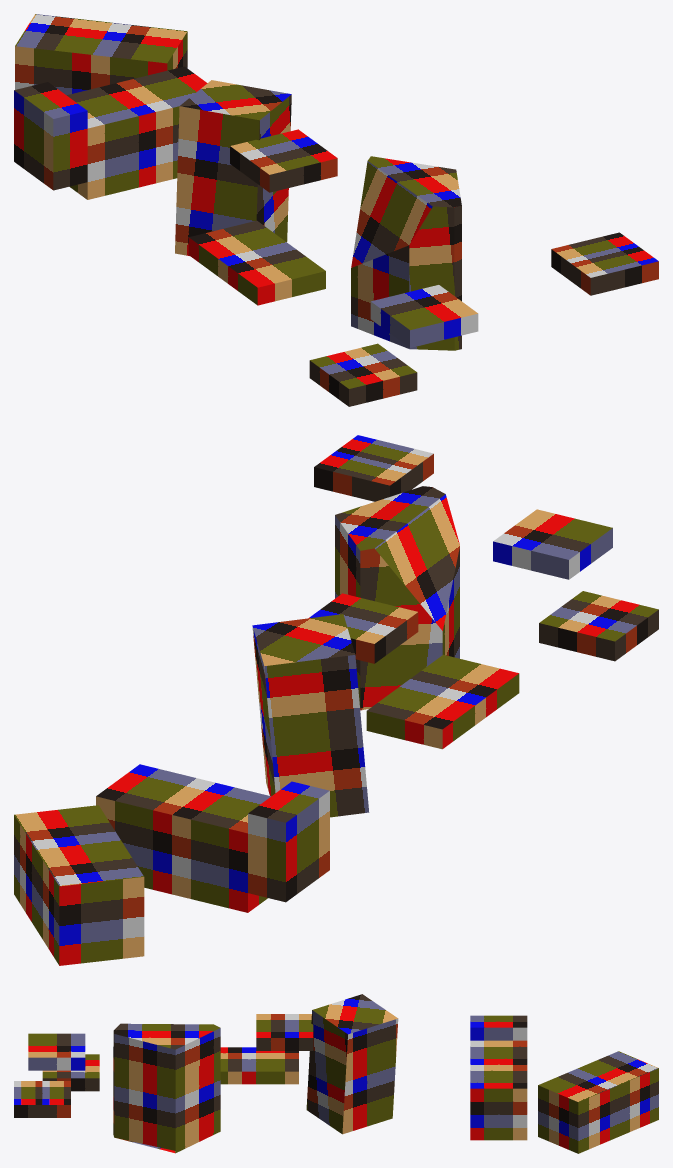
File: QuakeMap_.fbx
3 views of the same model, one above another, from view 1: azimuth 30°, elevation 25°; view 2: azimuth 150°, elevation 25°; view 3: azimuth 270°, elevation 25° (orthographic). The views are drawn at different scales.
Visible parts, largest first — view 1: face_51, face_4, face_61, face_32, face_37, face_62, face_3, face_30, face_33, face_57, face_21, face_9 (+18 smaller); view 2: face_50, face_1, face_63, face_61, face_32, face_3, face_31, face_37, face_48, face_59, face_57, face_28 (+18 smaller); view 3: face_25, face_46, face_26, face_59, face_47, face, face_3, face_61, face_58, face_48, face_37, face_28 (+11 smaller).
Boxes of the visible parts, box(x1,y1,x2,y2) form: face_51: box(175, 106, 259, 255); face_4: box(87, 106, 179, 199); face_61: box(15, 14, 187, 63); face_32: box(351, 161, 432, 267); face_37: box(189, 220, 325, 287); face_62: box(15, 46, 167, 95); face_3: box(67, 66, 207, 128); face_30: box(409, 206, 454, 350); face_33: box(351, 245, 409, 348); face_57: box(14, 90, 53, 189); face_21: box(371, 285, 477, 330); face_9: box(551, 232, 658, 277); face_50: box(264, 655, 369, 817); face_1: box(96, 796, 247, 912); face_63: box(59, 877, 144, 965); face_61: box(14, 805, 143, 886); face_32: box(375, 494, 459, 630); face_3: box(96, 764, 270, 833); face_31: box(360, 548, 442, 710); face_37: box(367, 654, 518, 729); face_48: box(252, 614, 355, 666); face_59: box(14, 815, 59, 965); face_57: box(286, 791, 329, 901); face_28: box(335, 486, 445, 550); face_25: box(114, 1034, 175, 1151); face_46: box(342, 1018, 398, 1134); face_26: box(175, 1028, 220, 1152); face_59: box(578, 1068, 658, 1153); face_47: box(306, 1010, 347, 1133); face: box(470, 1088, 527, 1140); face_3: box(470, 1040, 527, 1088); face_61: box(538, 1051, 658, 1102); face_58: box(538, 1085, 578, 1153); face_48: box(312, 994, 397, 1034); face_37: box(220, 1047, 298, 1071); face_28: box(113, 1023, 220, 1049).
Bounding box in the file's own units: 850 × 418 × 2262.
1 material, 1 textured.
